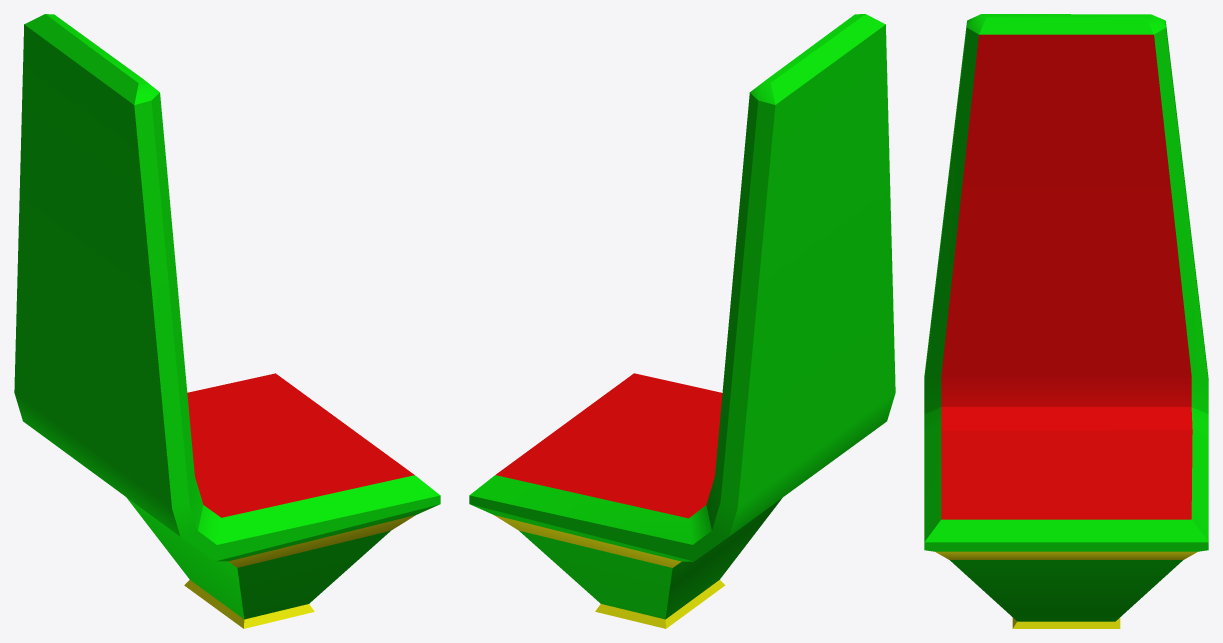
Rendered from ChairNoHandles.fbx.
3 views of the same model, side by side, from view 1: azimuth 30°, elevation 25°; view 2: azimuth 150°, elevation 25°; view 3: azimuth 270°, elevation 25° (orthographic). The views are drawn at different scales.
Parts seen in each view (by area): view 1: pCube16; view 2: pCube16; view 3: pCube16.
Part boxes in pixels (x1,y1,x2,y2): pCube16: [14, 14, 440, 628]; pCube16: [469, 14, 895, 628]; pCube16: [924, 14, 1208, 628].
Bounding box in the file's own units: 2.07 × 4.11 × 2.
